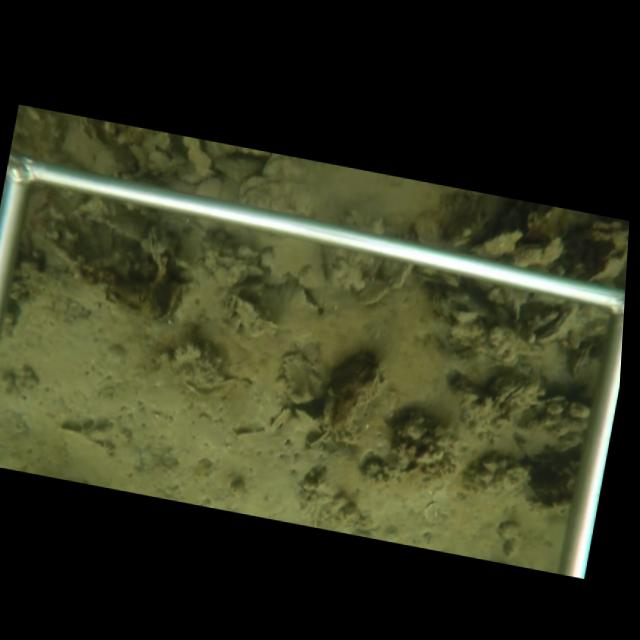Oyster-Closed: (534, 304, 578, 343), (143, 222, 170, 283), (564, 339, 594, 383), (494, 381, 527, 413)
Oyster-Indeterminate: (326, 352, 389, 442), (468, 228, 524, 258)
Oyster-Open: (145, 283, 190, 328), (584, 245, 628, 283)
